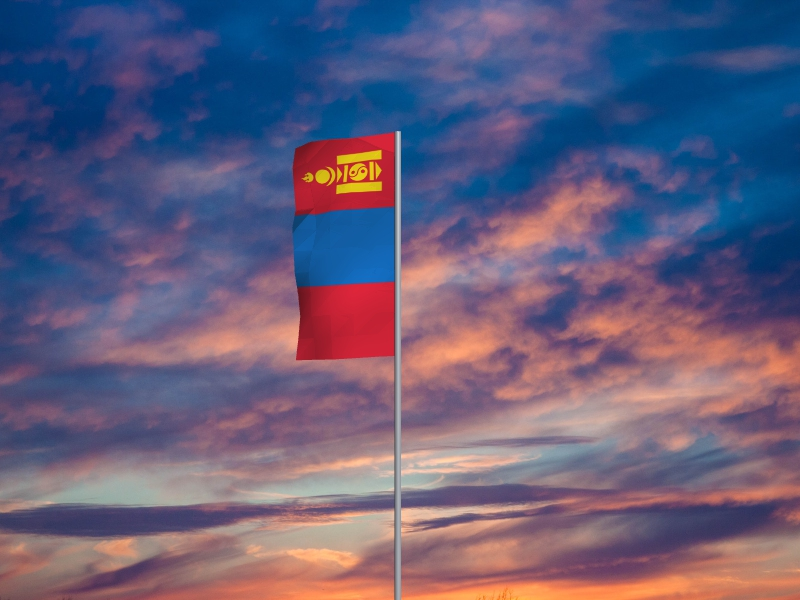mn: (292, 133, 395, 362)
